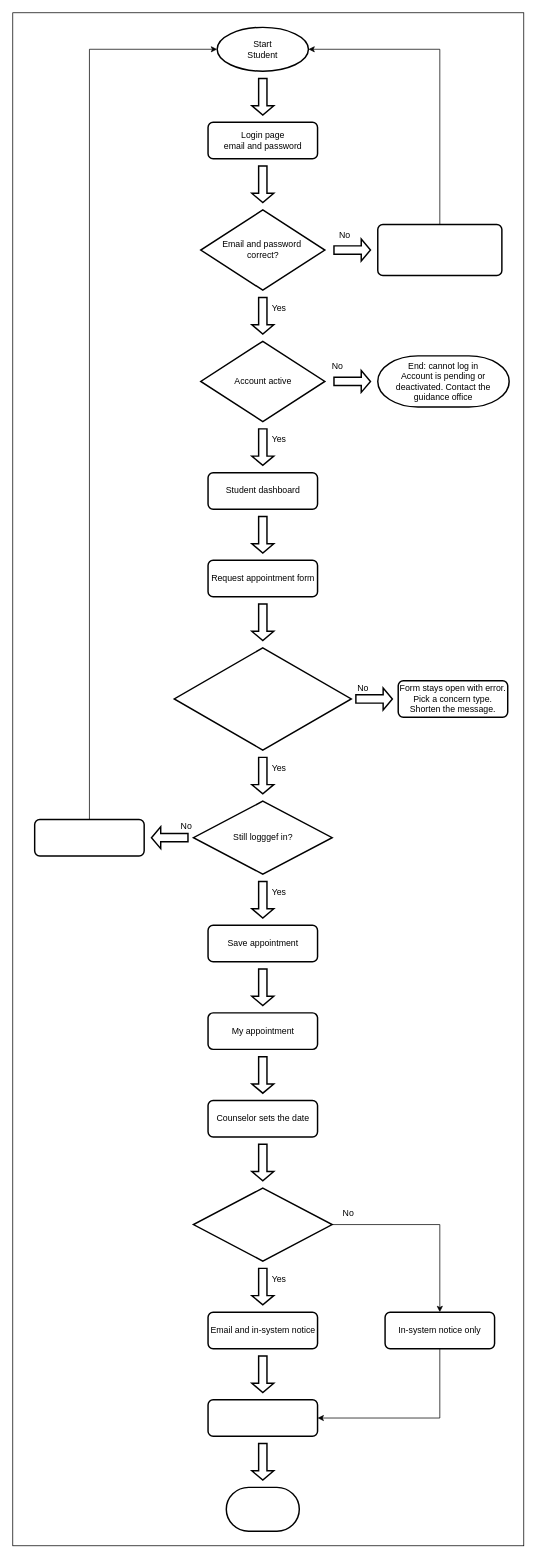
This 537x1559 diagram has some shape labels left out. The shapes that lost their labels are listed below. From the top down, each one's box as (x1, y1, x2, y2) in pixels, then its label:
(377, 223, 502, 276): Shows error: Invalid email or password Too many tries: wait and try again later
(173, 647, 352, 750): Concern type chosen and message 500 character or less?
(34, 818, 145, 856): Sent back to Login
(192, 1187, 333, 1261): Email sent OK?
(207, 1399, 318, 1437): Upcoming appointment
(225, 1486, 300, 1532): End
